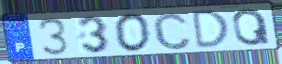3: (75, 15, 112, 55), (37, 16, 71, 57)
C: (151, 10, 194, 51)
D: (191, 9, 231, 51)
O: (112, 12, 153, 53)
Q: (231, 7, 273, 47)
